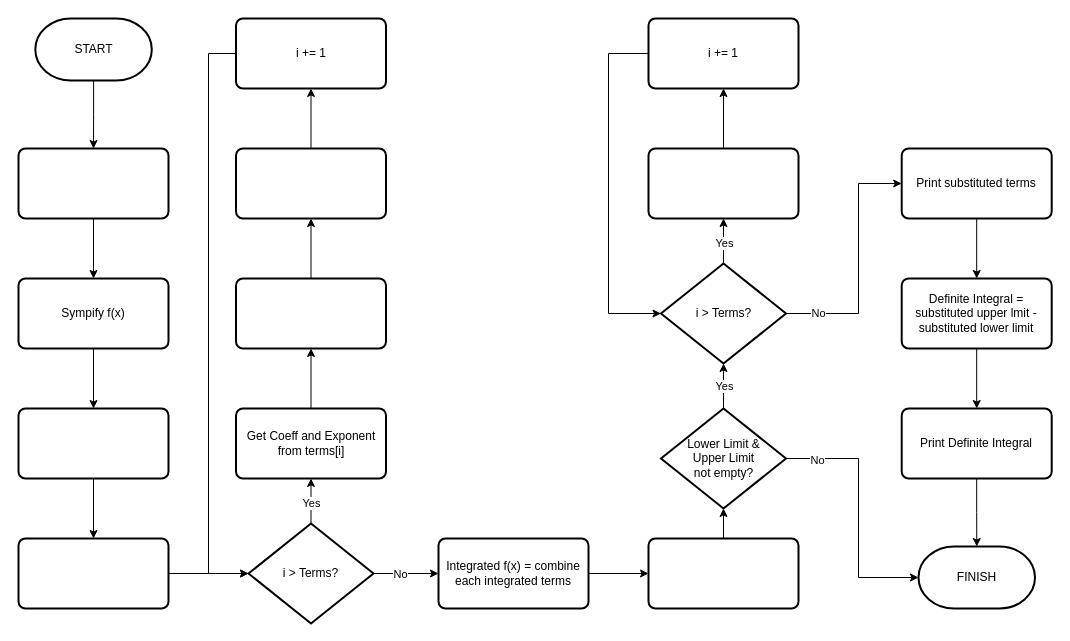
The diagram is 1070 pixels wide and 641 high, and some of its shapes have lost their labels. Each missing label, with the centre of its shape:
"Append Integrated coeff & exponent to integrated terms" belongs at (x=310, y=183).
"Coeff = Coeff / (exponent + 1) Exponent = exponent + 1" belongs at (x=310, y=313).
"Expand f(x)" belongs at (x=93, y=443).
"Input Lower Limit, Upper Limit, f(x)" belongs at (x=93, y=183).
"Print Expanded f(x), Integrated Terms, Integrated f(x)" belongs at (x=723, y=573).
"Split f(x) into terms" belongs at (x=93, y=573).
"Substitute each lower limit & upper limit to terms[i]" belongs at (x=723, y=183).
